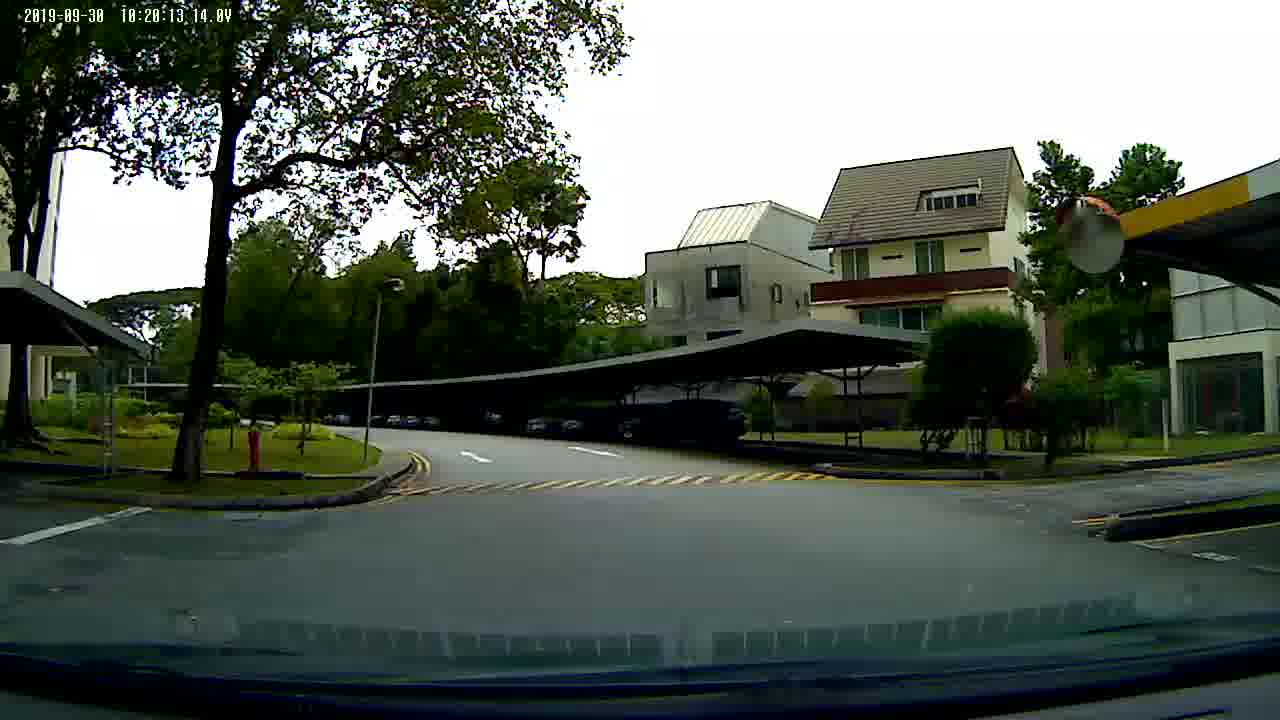car: (607, 398, 755, 448)
